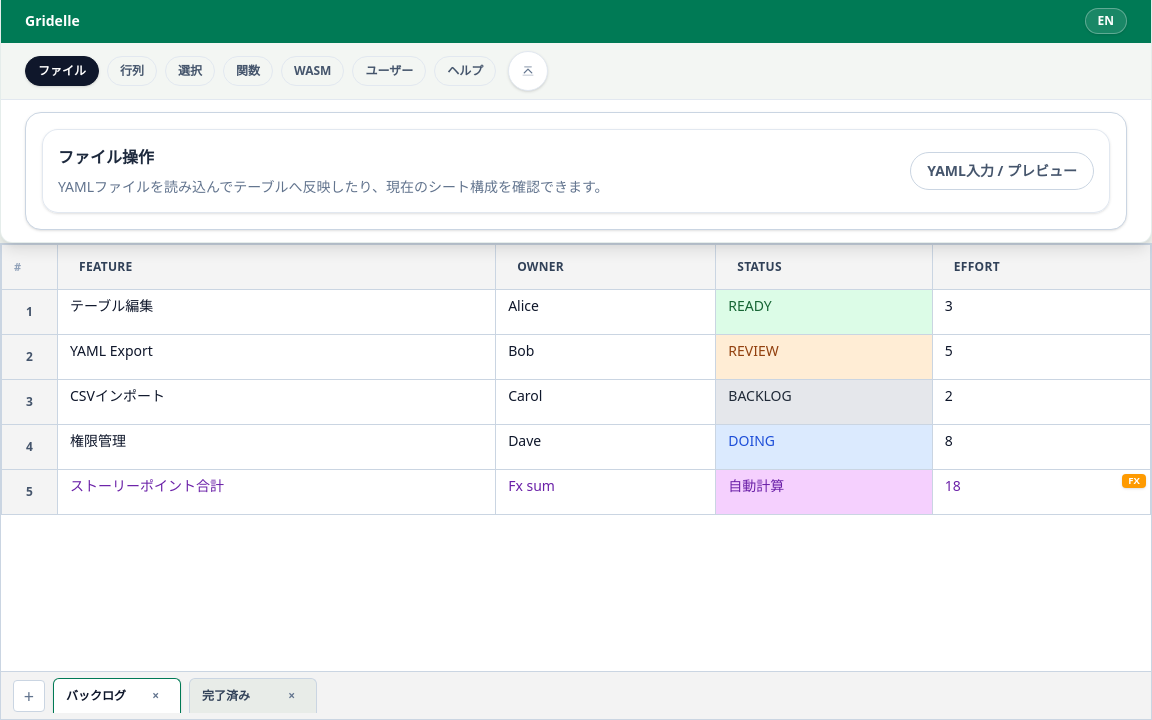
Test: App › ユーザーメニューでログアウトボタンを確認できる
Click the button with test id "menu-tab-user".
click(389, 71)  # box [352,56,426,86]
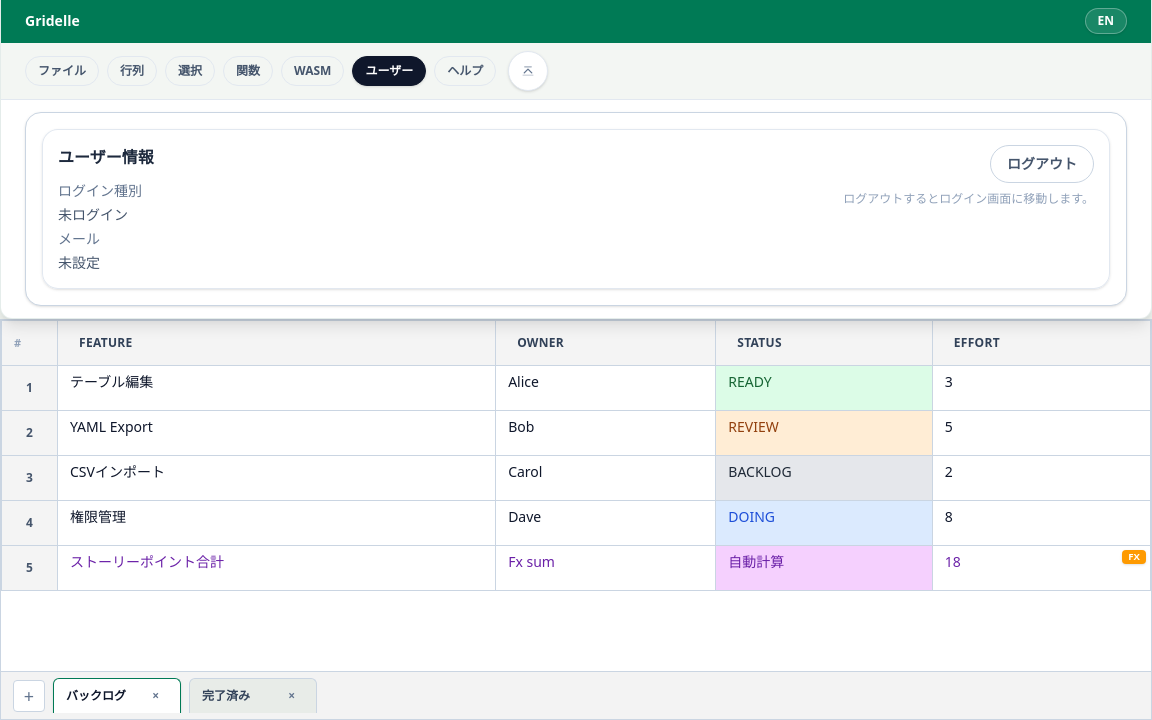
Check: the button with test id "logout-button" is shown, box [990,145,1094,183]
